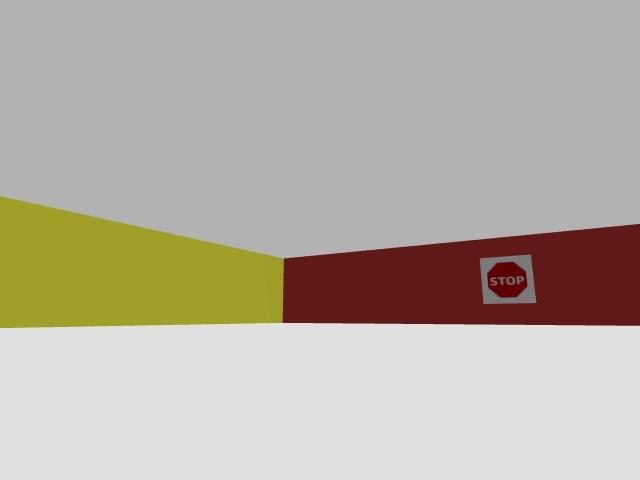stop: (480, 255, 536, 303)
